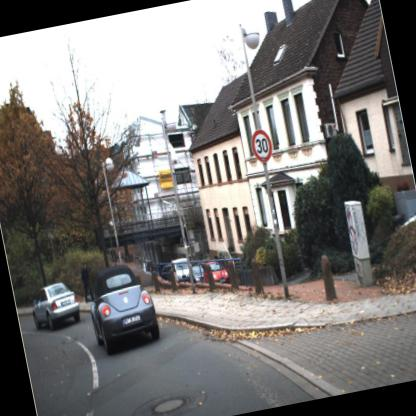prohibitory: (248, 126, 276, 168)
